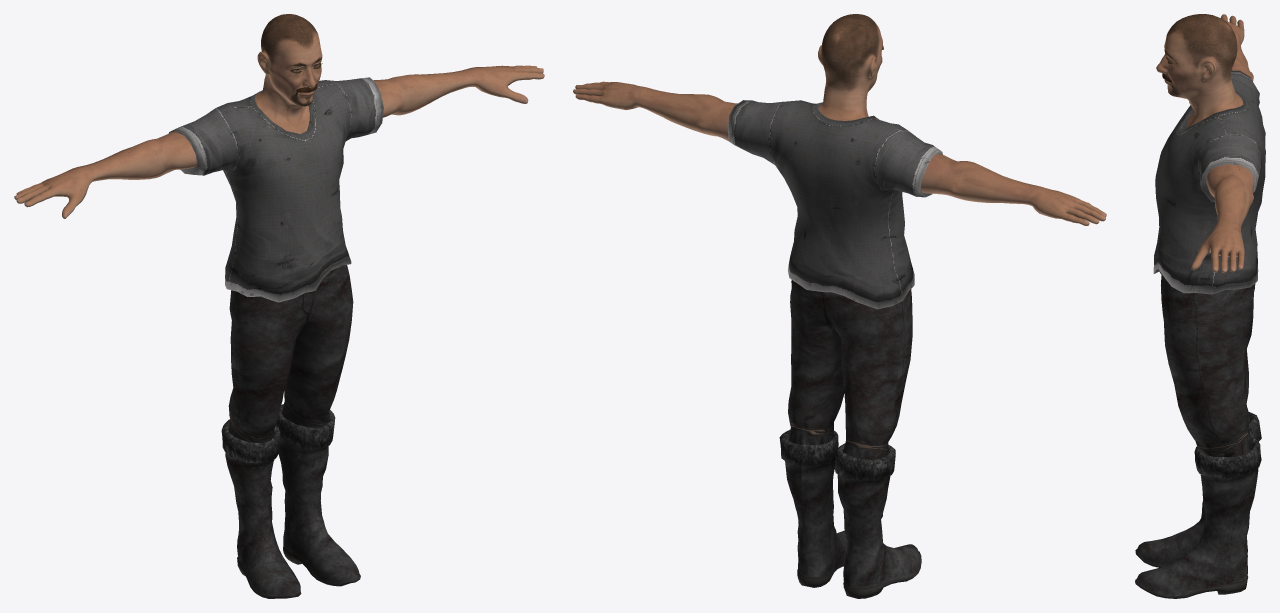
The model's file is rybak.obj.
3 views of the same model, side by side, from view 1: azimuth 30°, elevation 25°; view 2: azimuth 150°, elevation 25°; view 3: azimuth 270°, elevation 25° (orthographic).
Visible parts, largest first — view 1: Tops, Bottoms, Body, Shoes; view 2: Tops, Bottoms, Body, Shoes; view 3: Tops, Bottoms, Shoes, Body.
Part boxes in pixels (bbox=[...]): Tops: bbox=[168, 77, 383, 302]; Bottoms: bbox=[228, 265, 353, 442]; Body: bbox=[14, 14, 544, 218]; Shoes: bbox=[221, 404, 360, 598]; Tops: bbox=[728, 100, 942, 308]; Bottoms: bbox=[788, 280, 912, 459]; Body: bbox=[573, 14, 1106, 225]; Shoes: bbox=[779, 429, 921, 598]; Tops: bbox=[1153, 70, 1265, 294]; Bottoms: bbox=[1159, 270, 1255, 456]; Shoes: bbox=[1135, 412, 1261, 598]; Body: bbox=[1156, 14, 1254, 273].
Bounding box in the file's own units: 177 × 179 × 37.86.
Materials: 5 (5 with a texture image).
